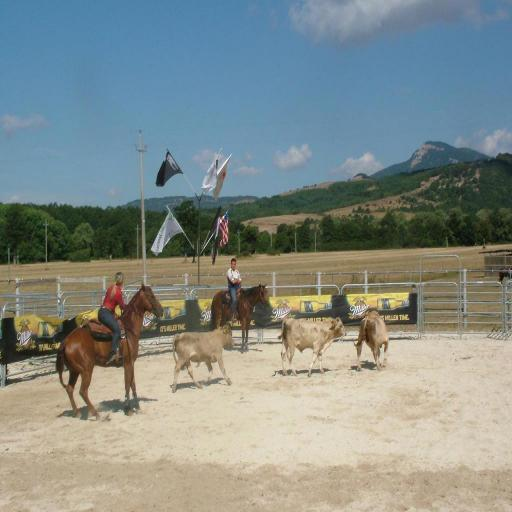horse: (56, 283, 164, 423), (211, 281, 271, 353)
